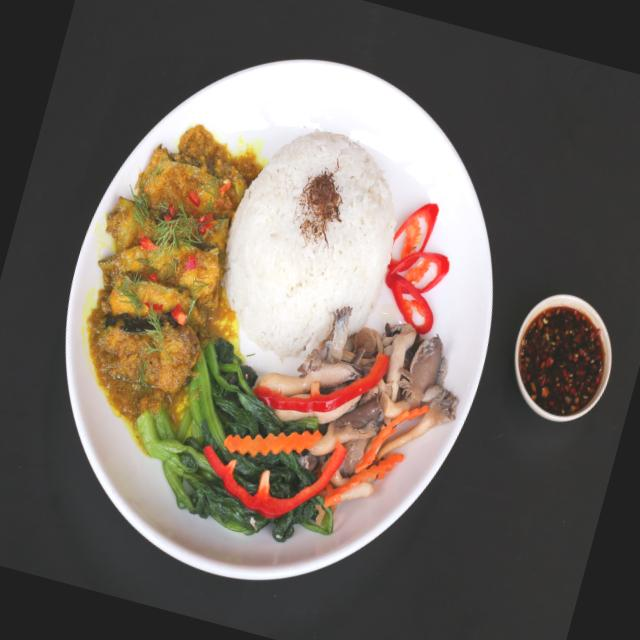com: (225, 131, 395, 357)
nuoc tuong: (518, 307, 603, 415)
